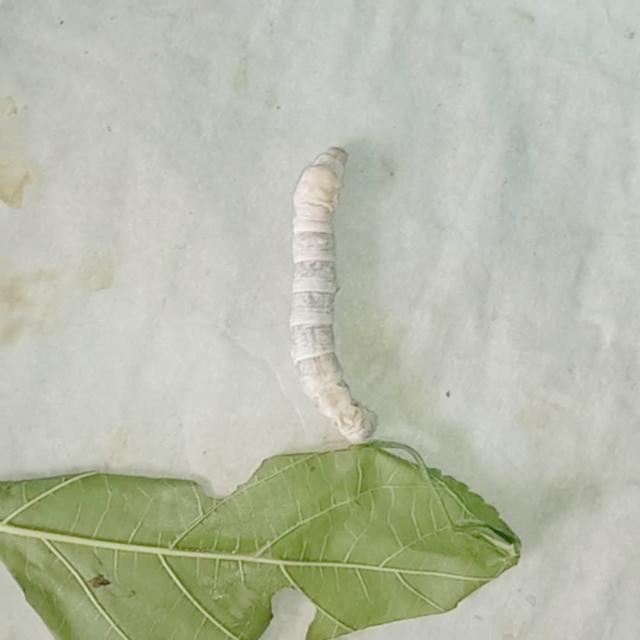Grasserie: (270, 129, 425, 495)
